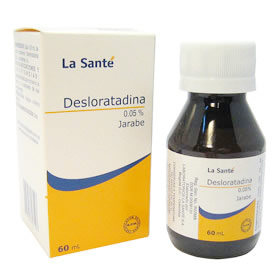LaSante: (48, 34, 150, 256)
